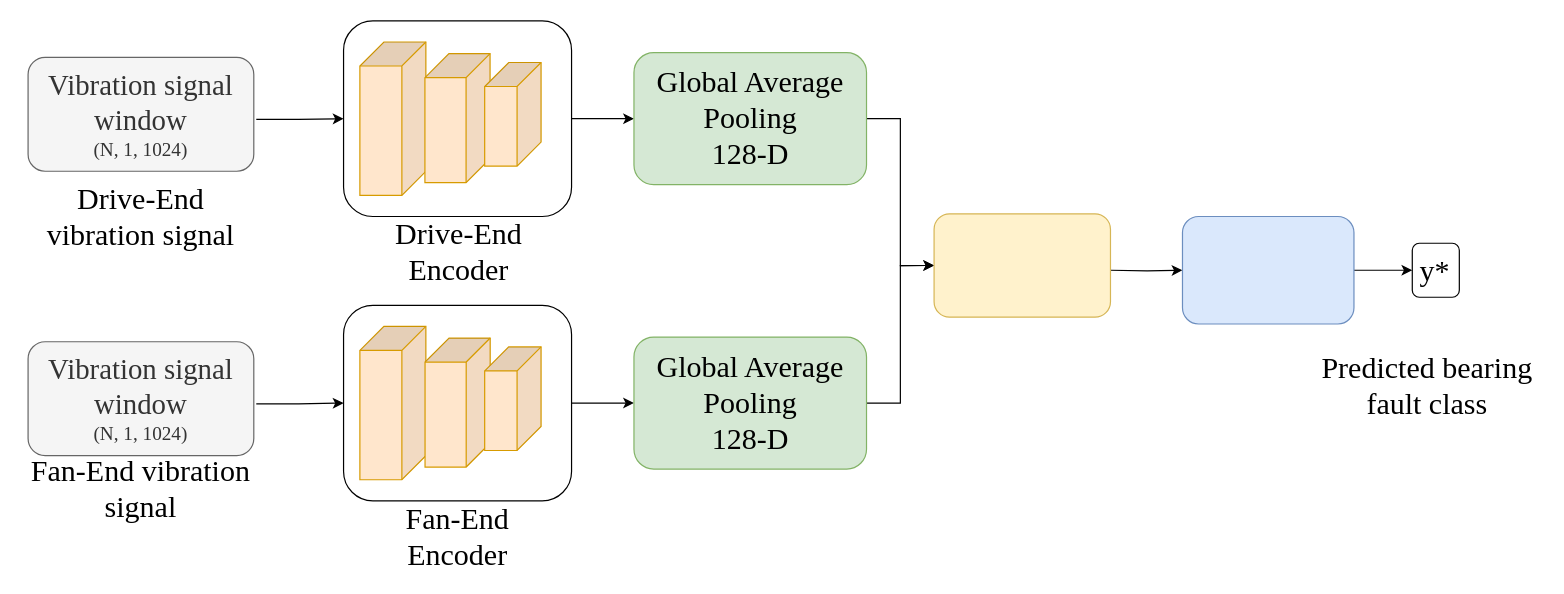
Some shapes in this 1564 by 594 pixel diagram are drawn without their labels. The shapes that lost their labels are listed below. From the top down, each one's centre as x and y in pixels, then its label:
the point at 1021,265: Concat 256-D
the point at 1267,269: FusionHead MLP
